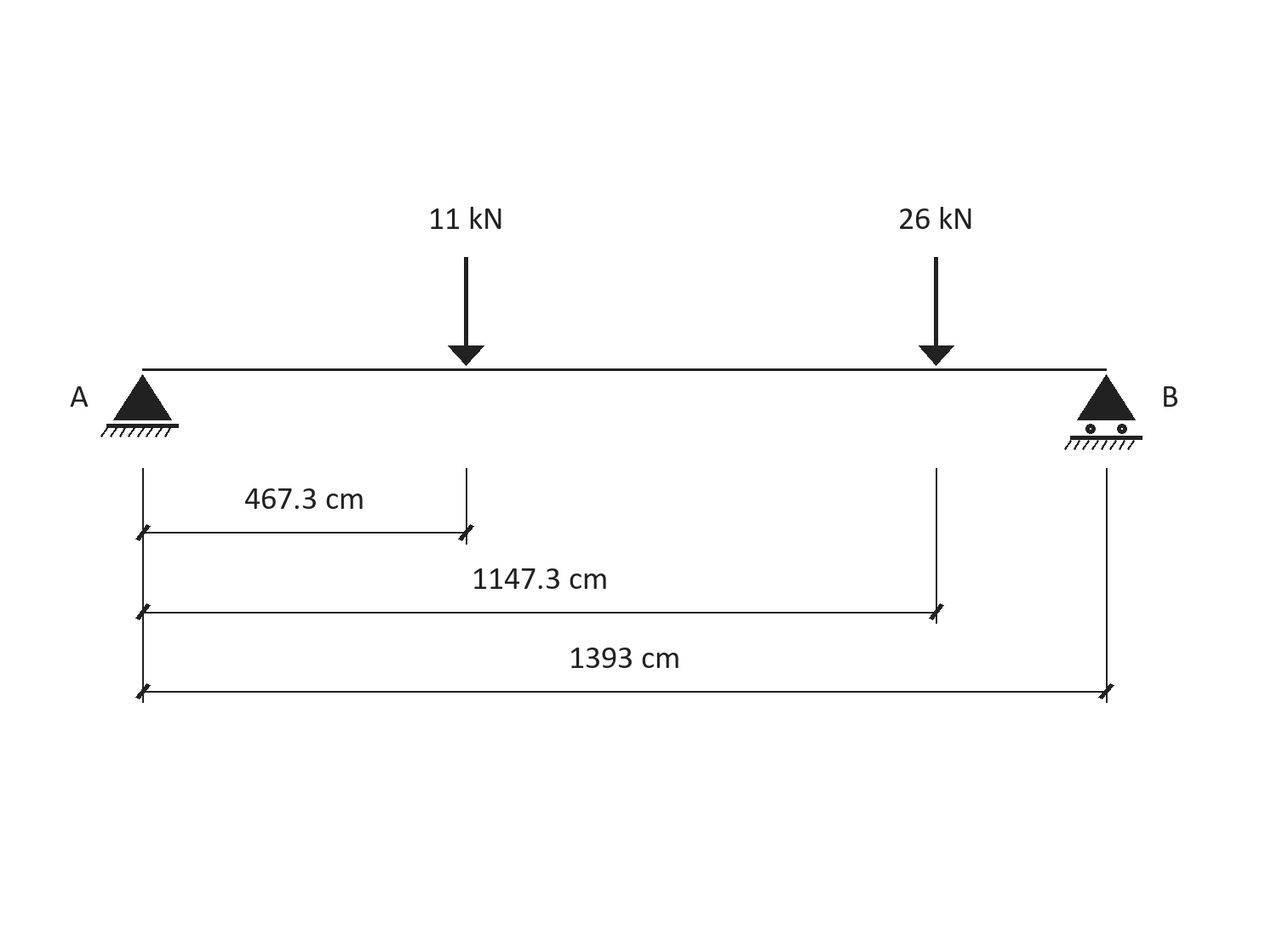pin_support: (100, 374, 179, 437)
point_load: (448, 257, 484, 366), (919, 257, 954, 366)
roller_support: (1064, 374, 1142, 450)
